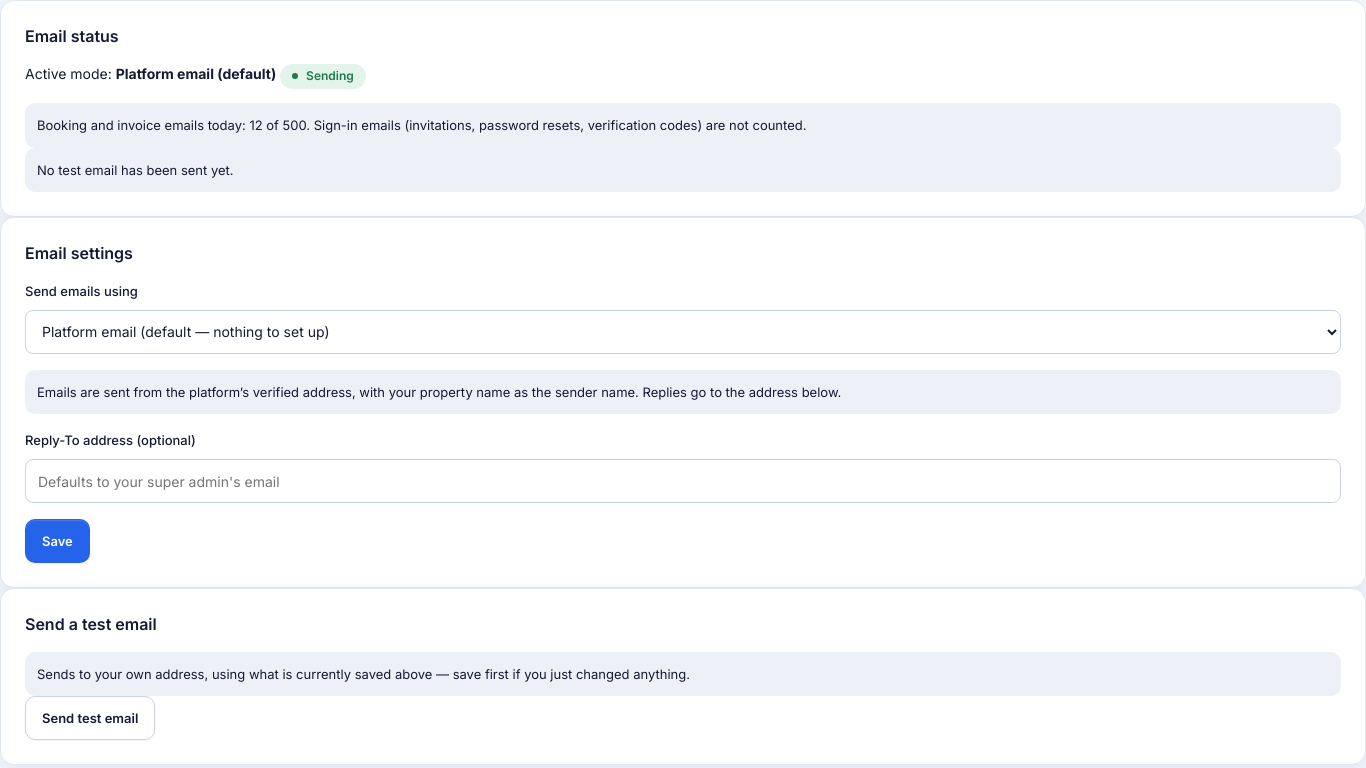
Test case: <EmailSettingsTab> › saves platform mode with an optional Reply-To
Step 1. Type "front@hotel.example" into the field with placeholder "Defaults to your super admin's email" → (683, 481), box [25,459,1341,503]
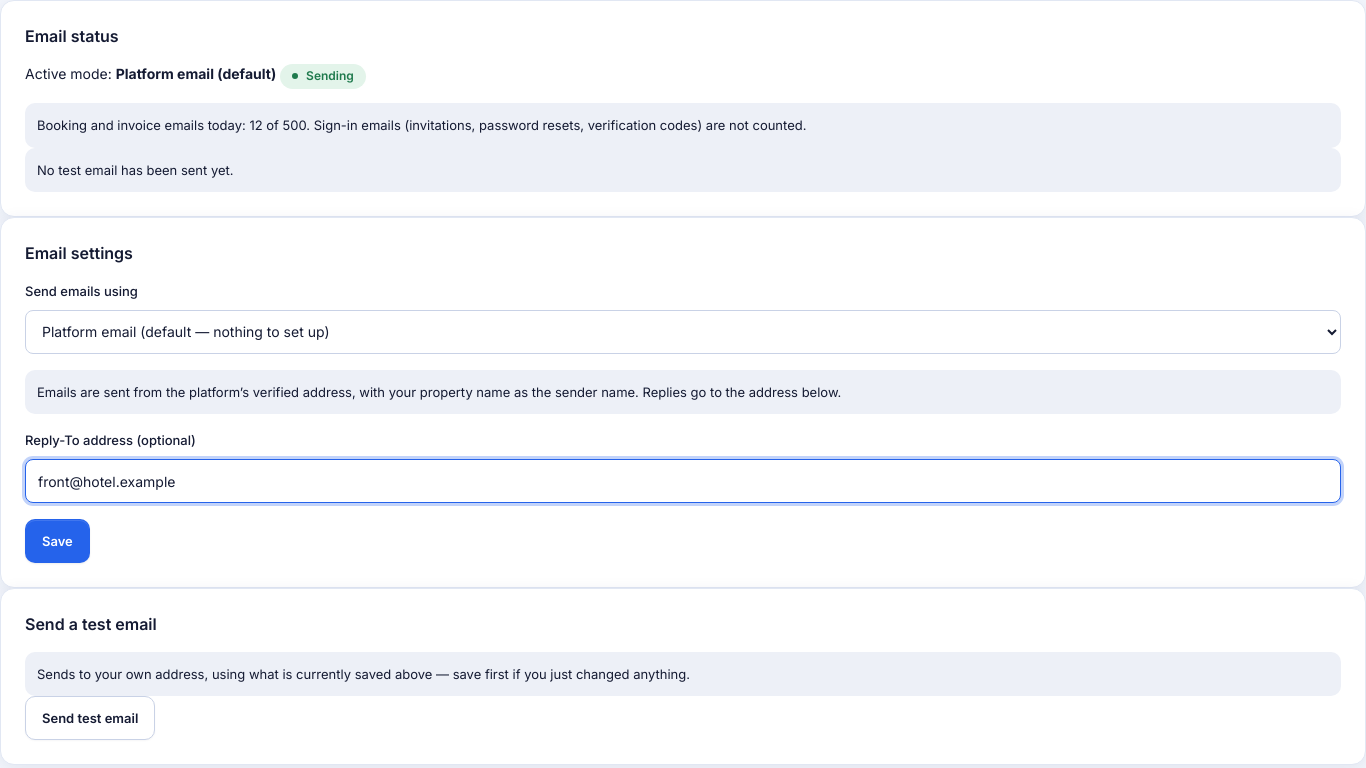
Step 2. Click the button "Save" → click(57, 541), box [25,519,90,563]
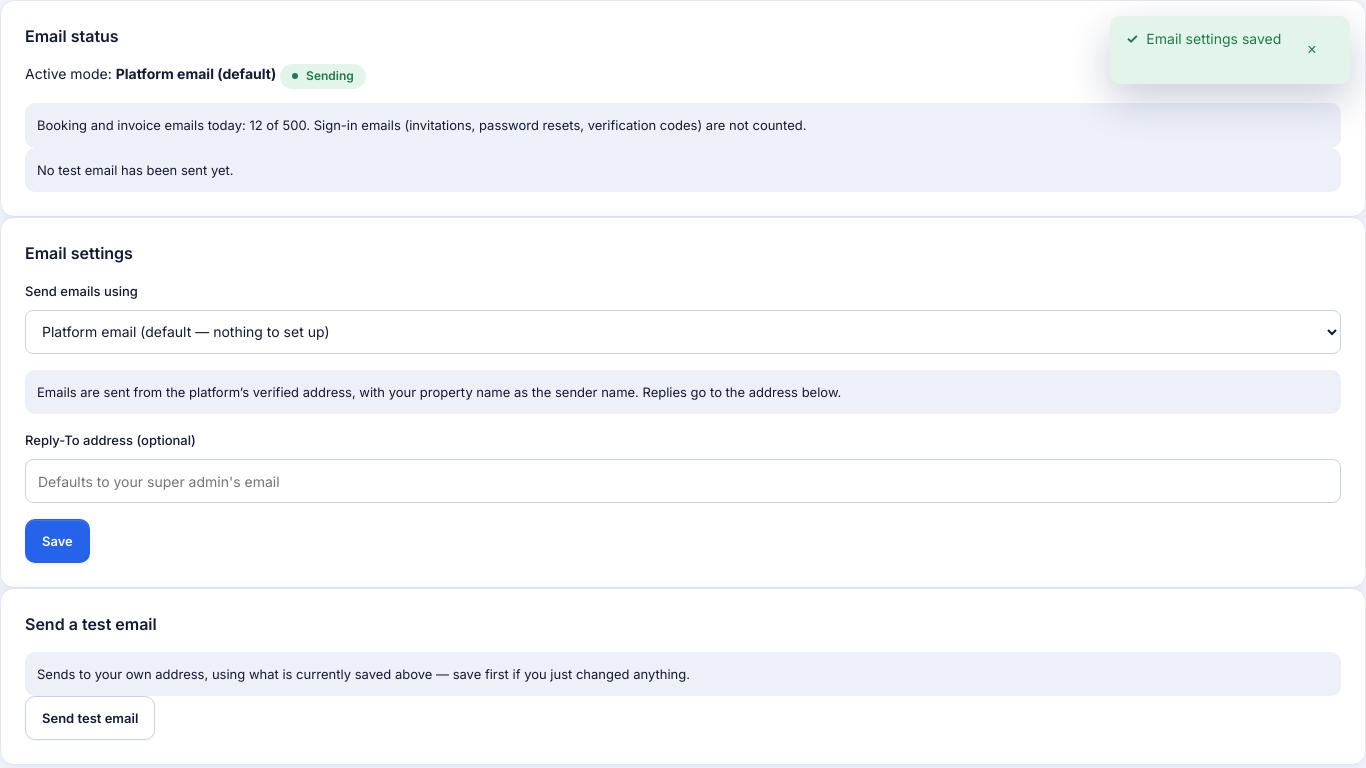
Expected: the text "Email settings saved" is shown, [1146,28,1282,50]
